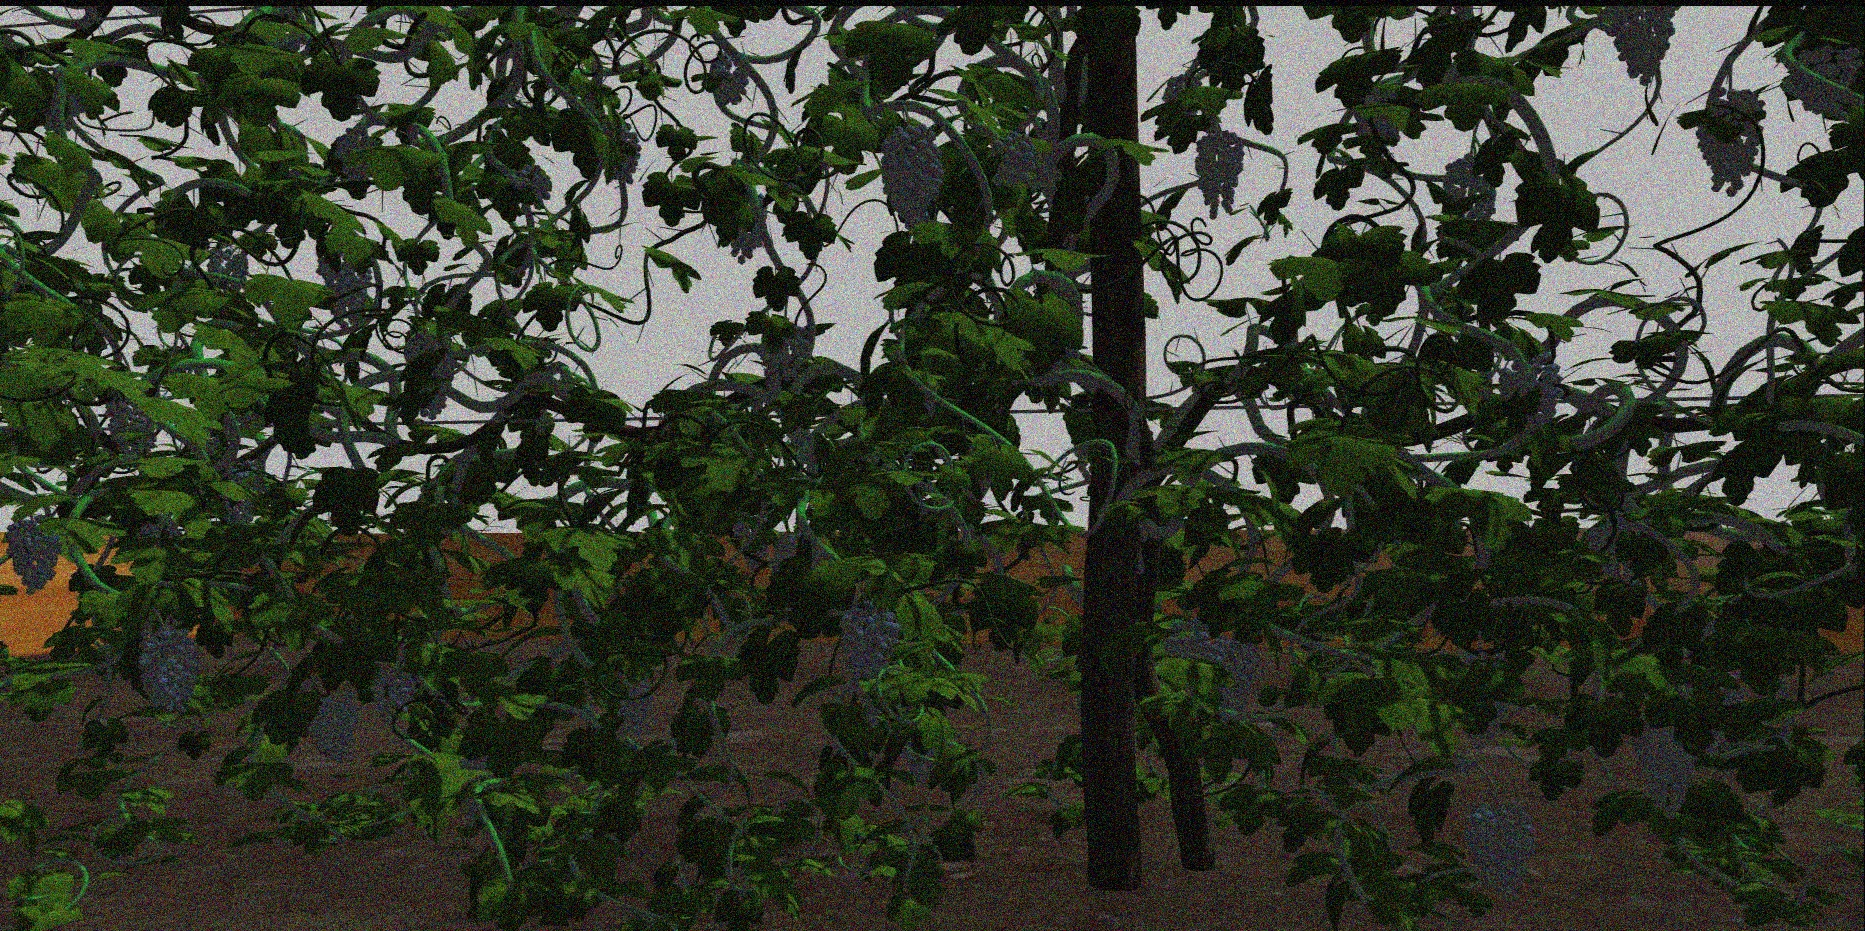grape: (1459, 801, 1538, 901), (1694, 87, 1764, 197), (877, 117, 944, 231), (136, 625, 197, 721), (1781, 46, 1861, 117), (1631, 726, 1693, 818), (1606, 11, 1678, 86), (1497, 352, 1562, 430), (836, 608, 894, 692), (402, 333, 458, 420), (4, 510, 59, 595), (1208, 637, 1260, 722), (1194, 132, 1243, 218), (313, 260, 373, 328), (307, 694, 360, 767), (1442, 152, 1497, 221), (755, 321, 806, 394), (604, 675, 654, 740), (368, 665, 413, 726), (986, 132, 1032, 188), (107, 400, 150, 455), (334, 127, 376, 183), (1160, 621, 1211, 663), (709, 55, 749, 108), (206, 245, 247, 295), (510, 165, 552, 208)
